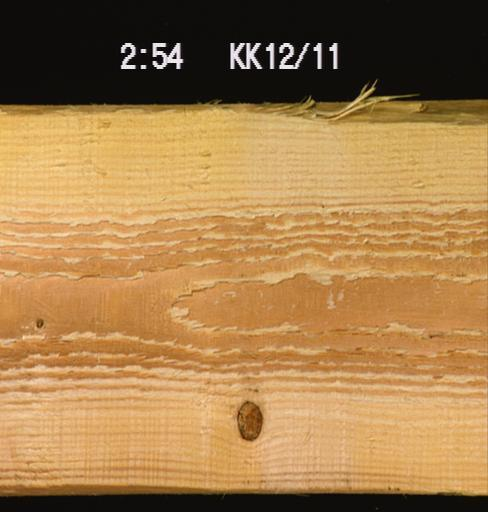dry_knot: (233, 397, 263, 442)
small_knot: (31, 313, 46, 331)
wave: (0, 95, 487, 127), (0, 476, 487, 499)
